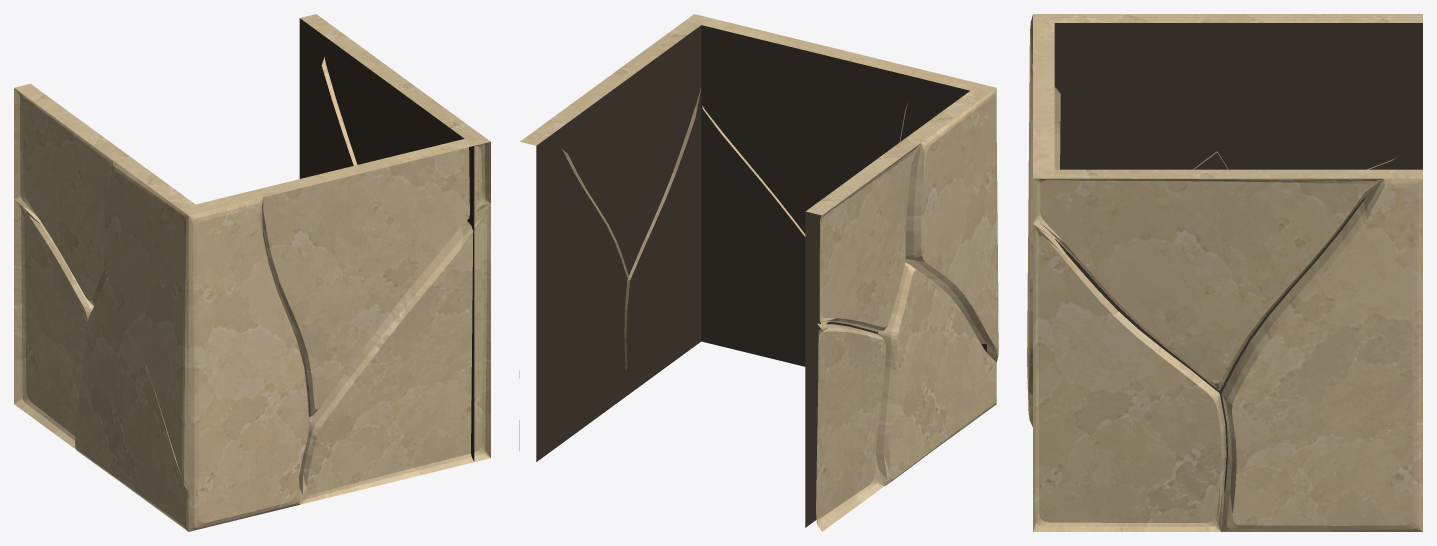
File: ground_square_end_08.glb
3 renders of one model, left to right at view 1: azimuth 30°, elevation 25°; view 2: azimuth 150°, elevation 25°; view 3: azimuth 270°, elevation 25°, orthographic. The views are drawn at different scales.
Visible parts, largest first — view 1: GroundSquareEnd08_Body; view 2: GroundSquareEnd08_Body; view 3: GroundSquareEnd08_Body.
Boxes of the visible parts, x1,y1,x2,y2 form: GroundSquareEnd08_Body: (14, 14, 490, 531); GroundSquareEnd08_Body: (519, 14, 998, 531); GroundSquareEnd08_Body: (1027, 14, 1422, 531).
Bounding box in the file's own units: 1.03 × 1 × 1.02.
Materials: 12 (11 with a texture image).
